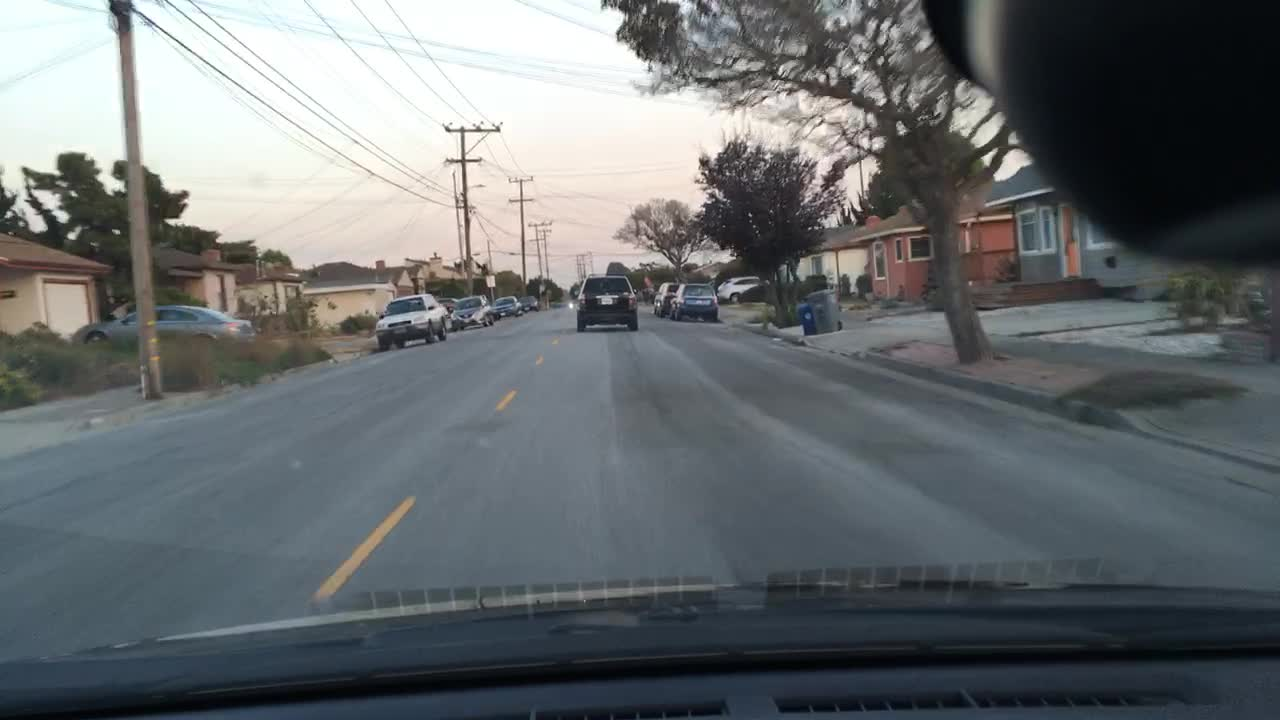car: (67, 301, 257, 350), (372, 290, 449, 347), (573, 273, 636, 332), (716, 273, 769, 304), (673, 284, 716, 322), (450, 295, 497, 329), (653, 283, 684, 318), (492, 296, 524, 316), (518, 293, 538, 310)
